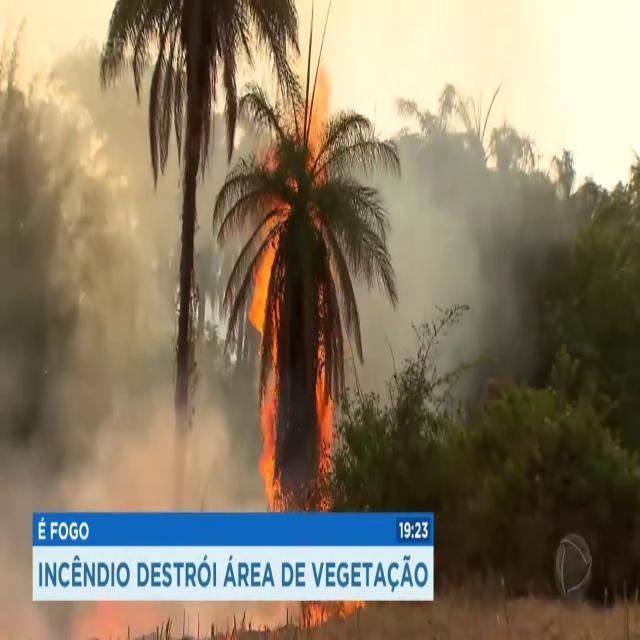Fire: (246, 222, 286, 508), (312, 318, 340, 488)
Smoke: (0, 7, 229, 501), (361, 16, 546, 422)
